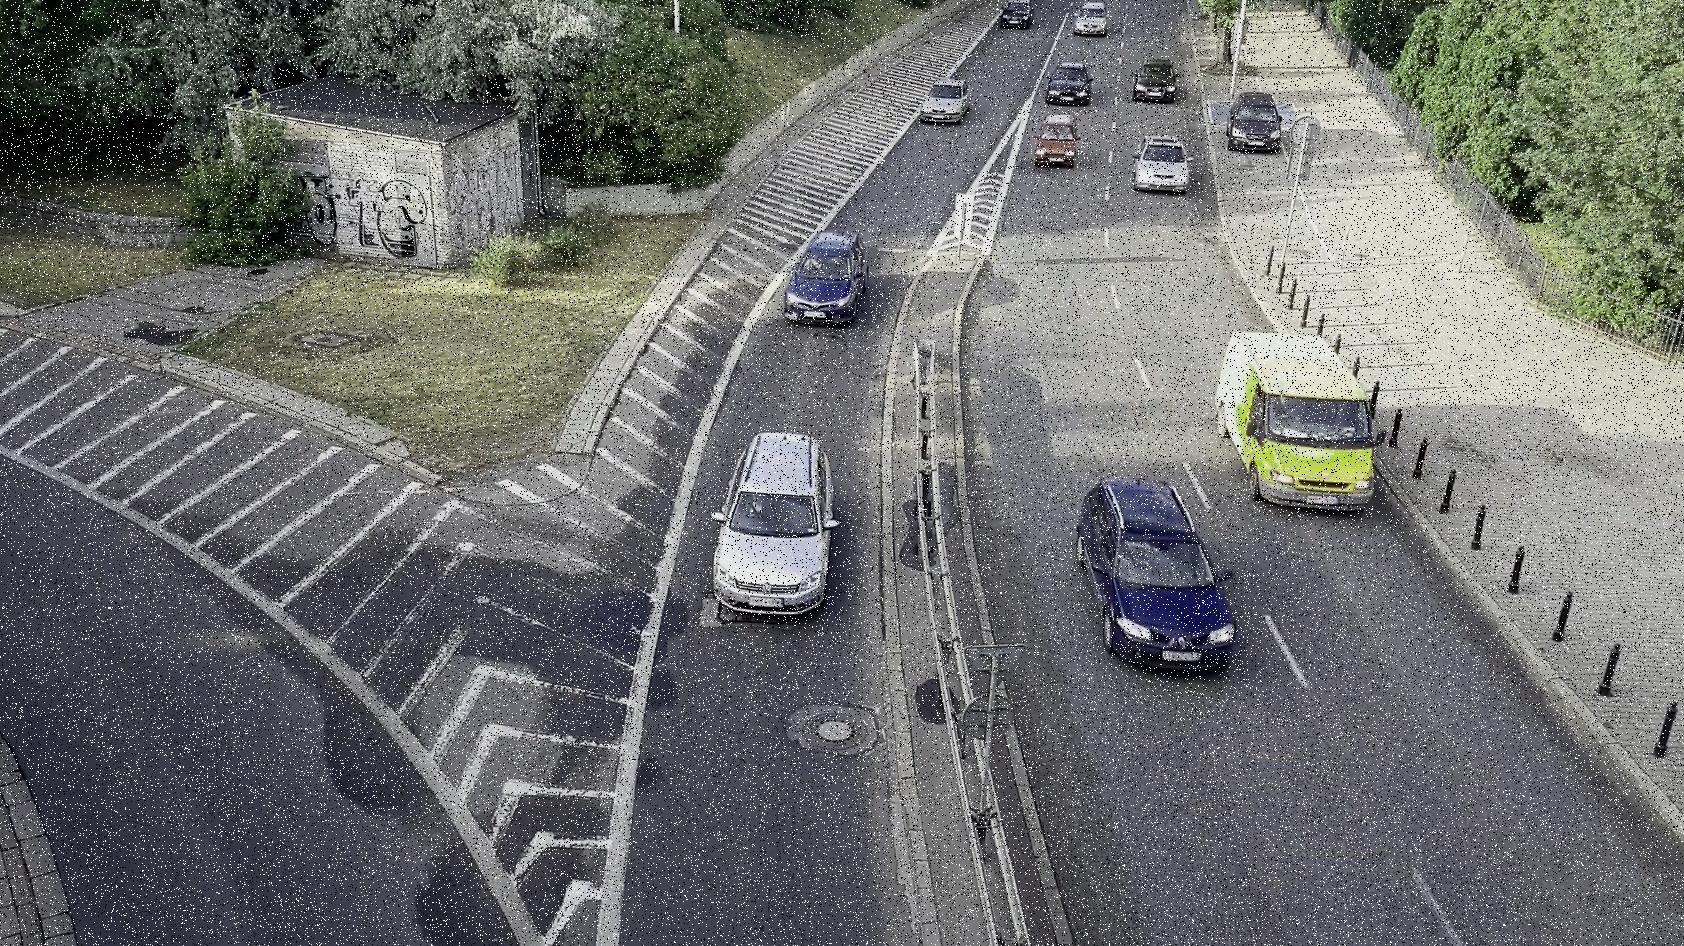car: (1211, 319, 1381, 519), (1073, 471, 1239, 672), (712, 430, 842, 621), (786, 219, 869, 319), (1221, 86, 1294, 154), (1131, 132, 1196, 194), (1035, 110, 1083, 171), (1129, 54, 1183, 104), (916, 77, 972, 125), (1046, 56, 1092, 105), (1074, 0, 1106, 34)
